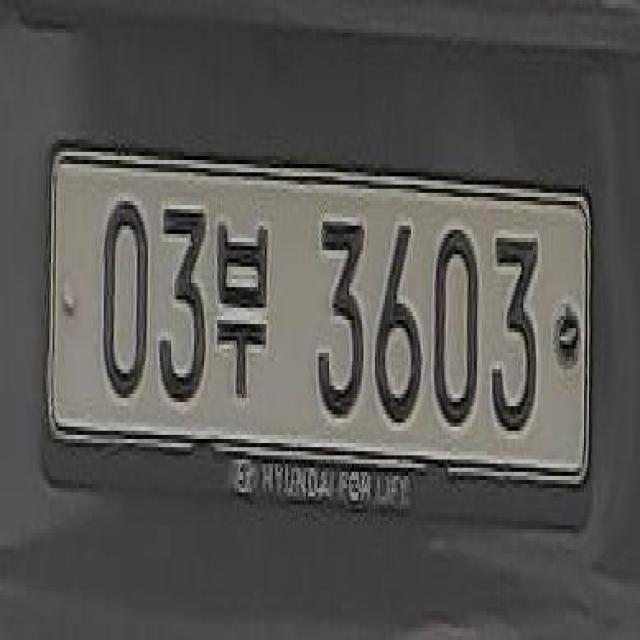illegal_plate: (45, 135, 602, 536)
